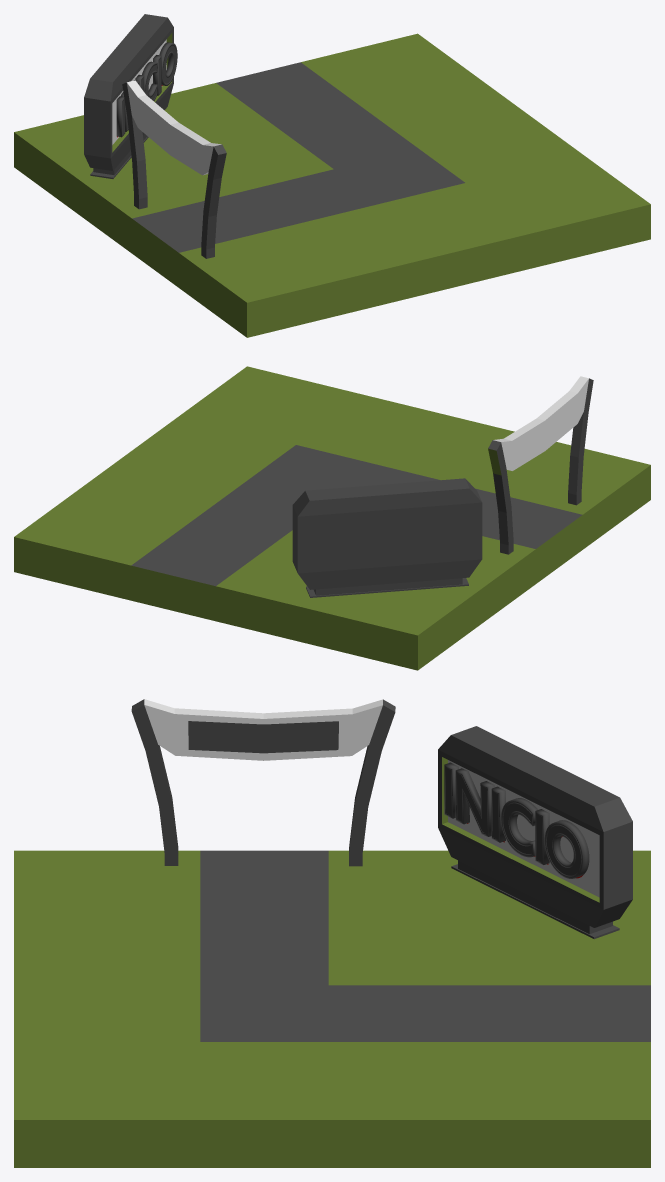
Rendered from Start.fbx.
3 renders of one model, top to bottom at view 1: azimuth 30°, elevation 25°; view 2: azimuth 150°, elevation 25°; view 3: azimuth 270°, elevation 25°, orthographic. The views are drawn at different scales.
Visible parts, largest first — view 1: Plane.001; view 2: Plane.001; view 3: Plane.001.
Boxes of the visible parts, left/top/right/bottom form: Plane.001: left=14, top=14, right=650, bottom=337; Plane.001: left=14, top=366, right=650, bottom=670; Plane.001: left=14, top=699, right=650, bottom=1167.
Bounding box in the file's own units: 429 × 155 × 429.
